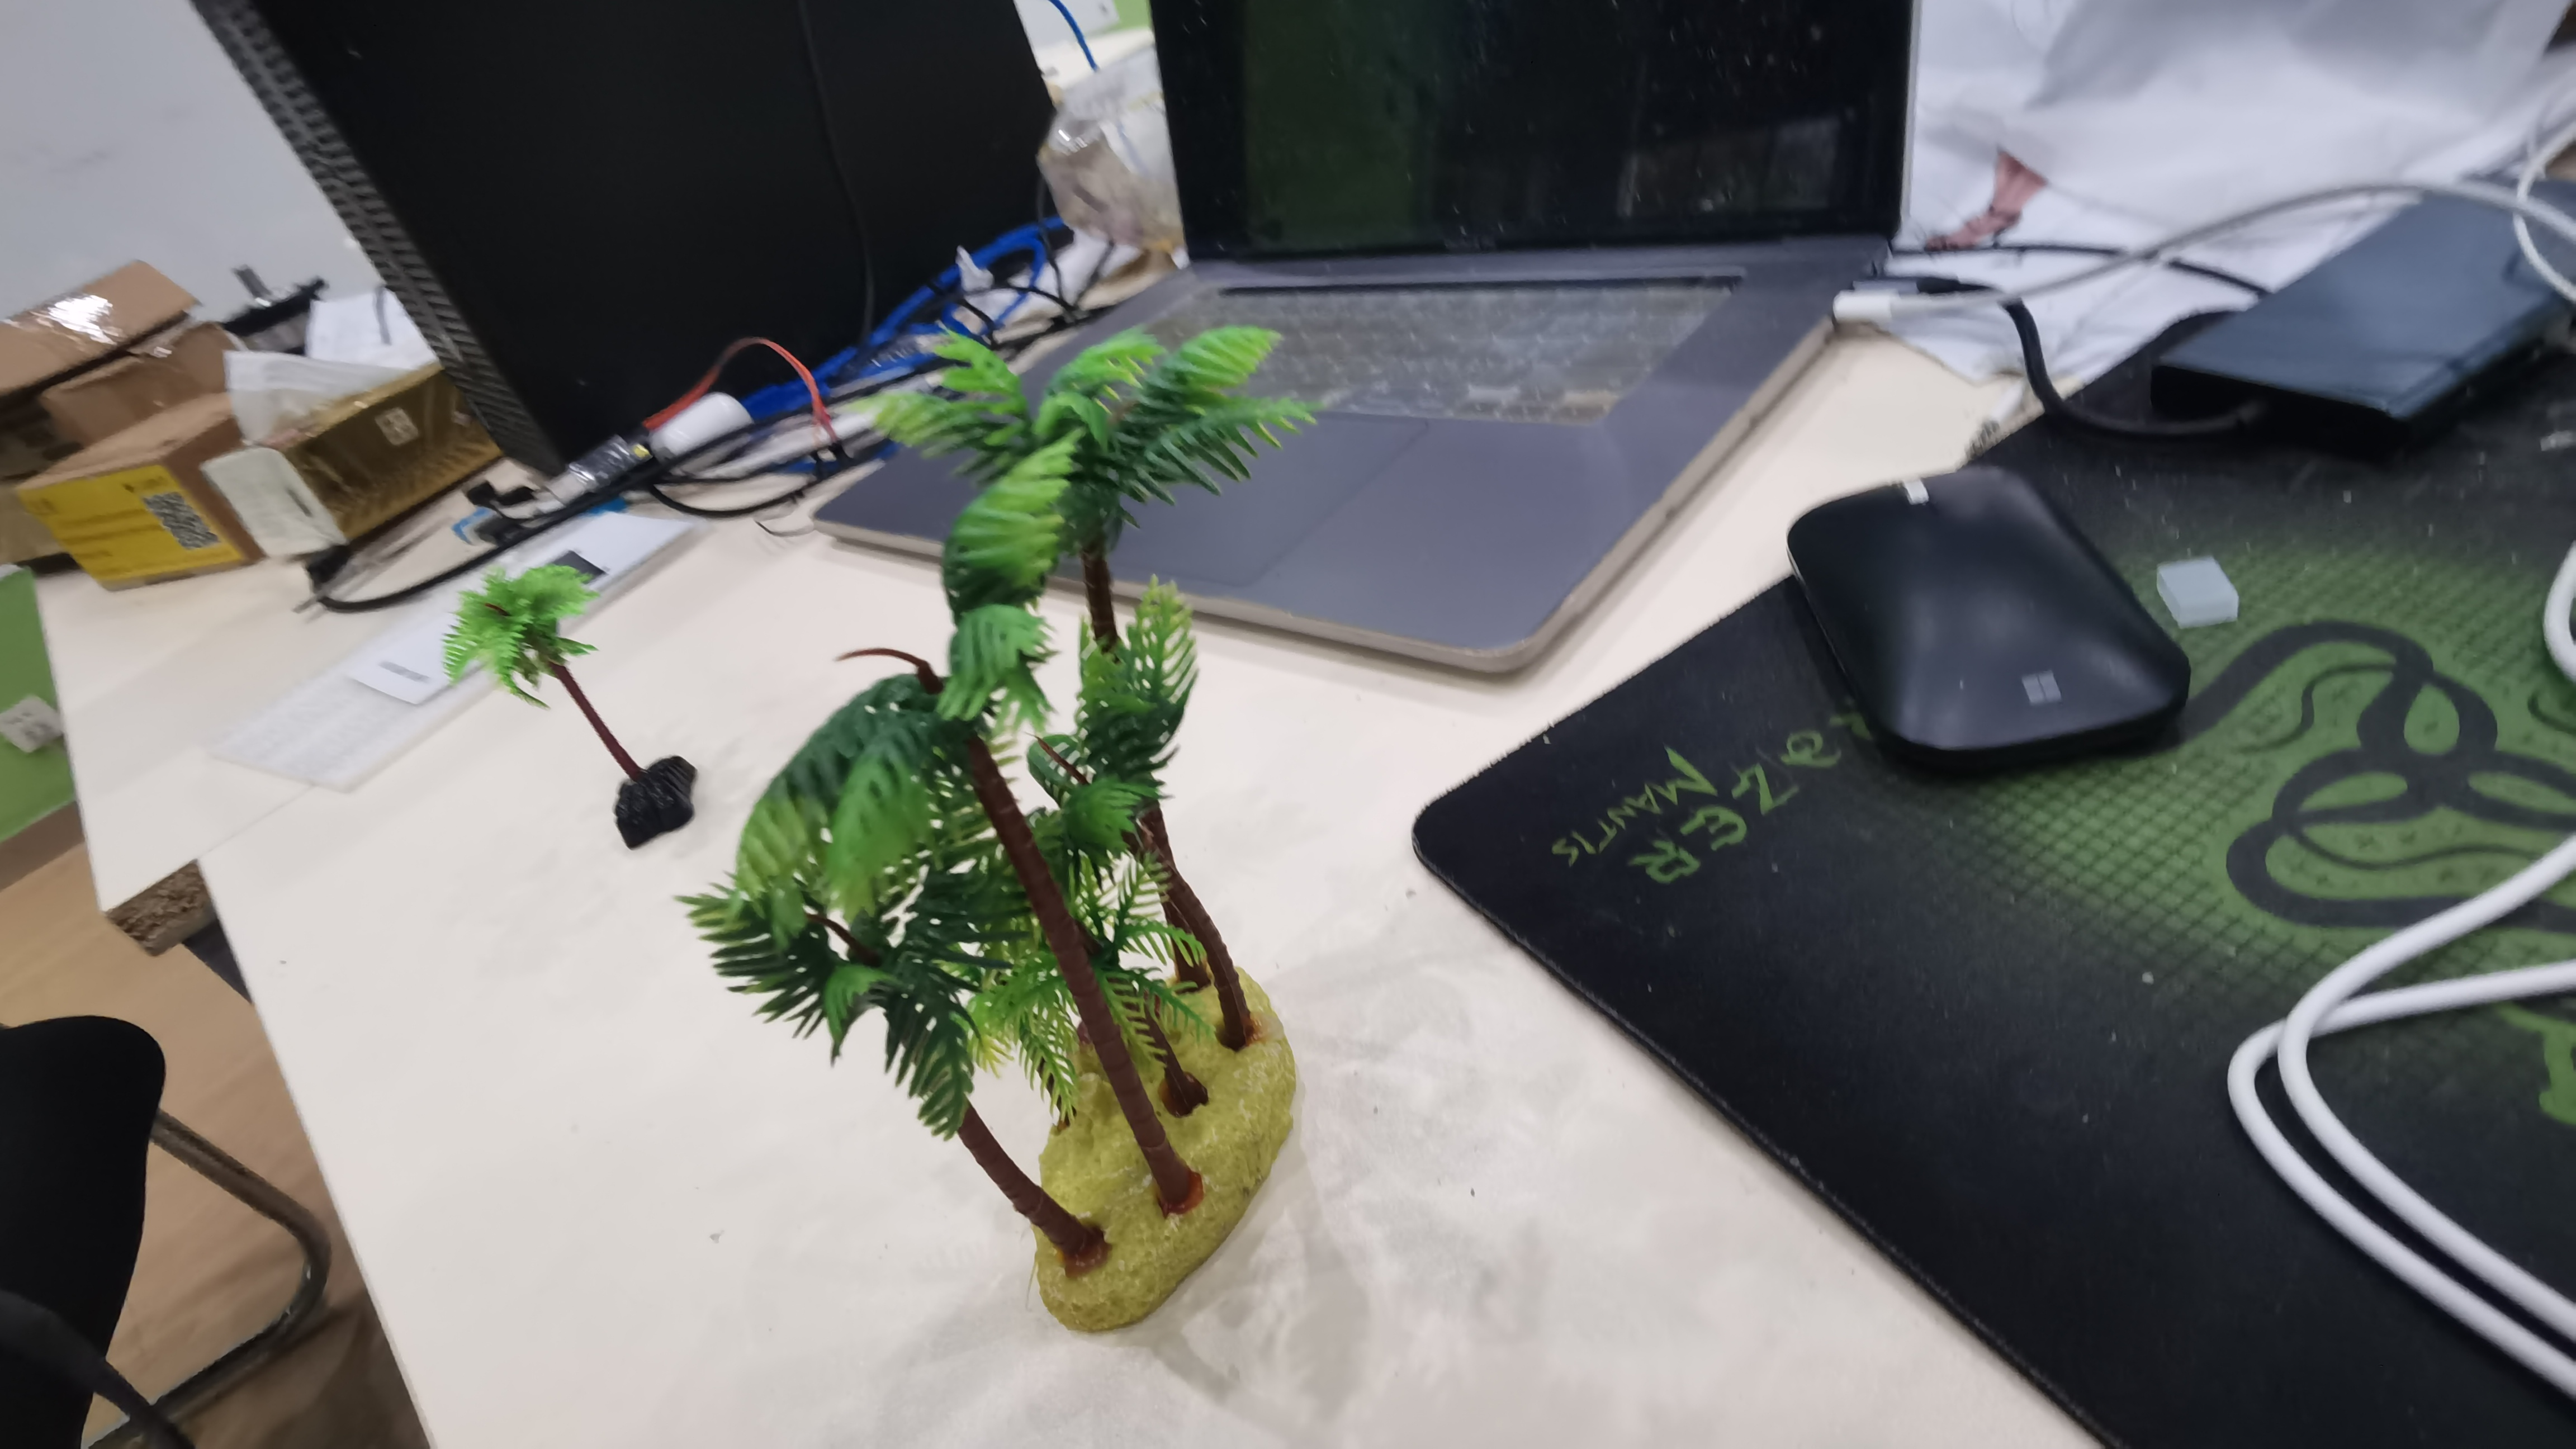corn: (681, 324, 1332, 1341), (435, 543, 702, 846)
